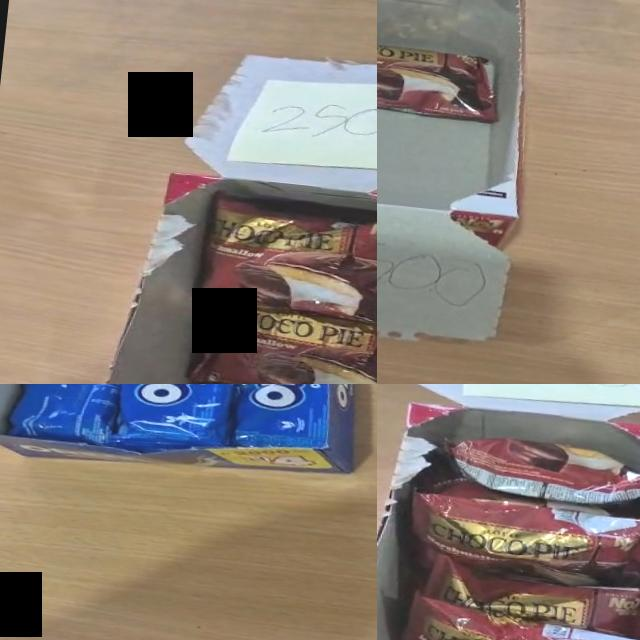Chocopie: (403, 486, 640, 594), (193, 190, 377, 328), (413, 550, 640, 640), (435, 429, 640, 512), (188, 296, 377, 384), (392, 588, 640, 640), (377, 34, 502, 124)
Oreo: (106, 384, 257, 463), (4, 384, 145, 448), (224, 384, 348, 455)
